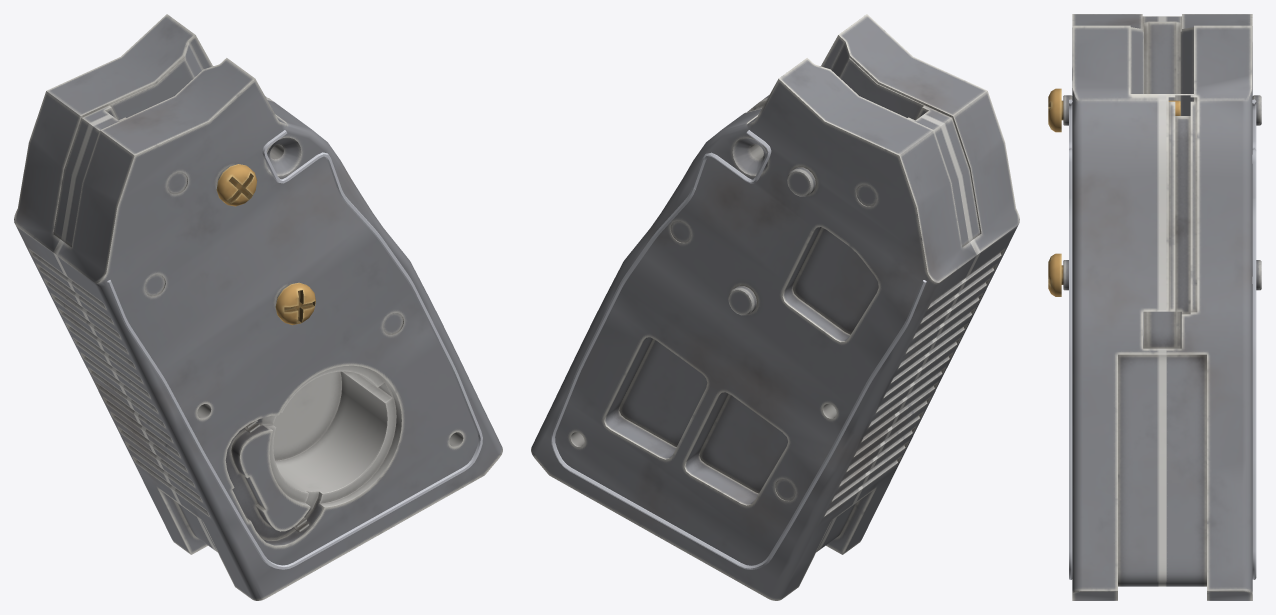
Rendered from grip.glb.
3 views of the same model, side by side, from view 1: azimuth 30°, elevation 25°; view 2: azimuth 150°, elevation 25°; view 3: azimuth 270°, elevation 25° (orthographic).
Visible parts, largest first — view 1: grip_core, grip_seam_l, grip_screw_b, grip_screw_a; view 2: grip_core, grip_seam_r; view 3: grip_core, grip_seam_r, grip_seam_l, grip_screw_a, grip_screw_b.
Part boxes in pixels (bbox=[...]): grip_core: bbox=[14, 14, 502, 600]; grip_seam_l: bbox=[107, 130, 482, 569]; grip_screw_b: bbox=[275, 282, 315, 325]; grip_screw_a: bbox=[216, 164, 257, 206]; grip_core: bbox=[531, 14, 1019, 600]; grip_seam_r: bbox=[551, 130, 926, 569]; grip_core: bbox=[1063, 14, 1261, 600]; grip_seam_r: bbox=[1252, 99, 1256, 579]; grip_seam_l: bbox=[1069, 99, 1072, 579]; grip_screw_a: bbox=[1048, 88, 1180, 132]; grip_screw_b: bbox=[1048, 253, 1063, 296].
Bounding box in the file's own units: 0.093 × 0.1146 × 0.0415.
1 material, 1 textured.
